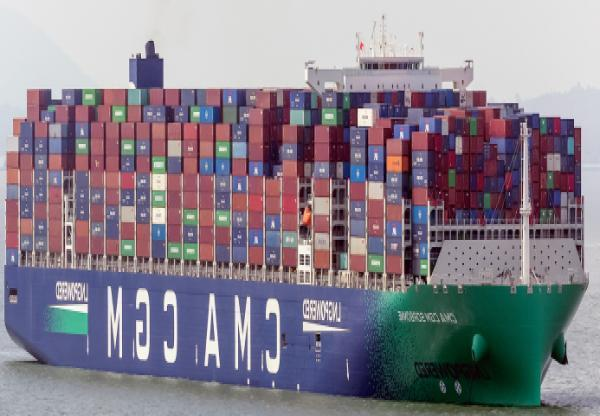Container Ship: (3, 15, 589, 407)
